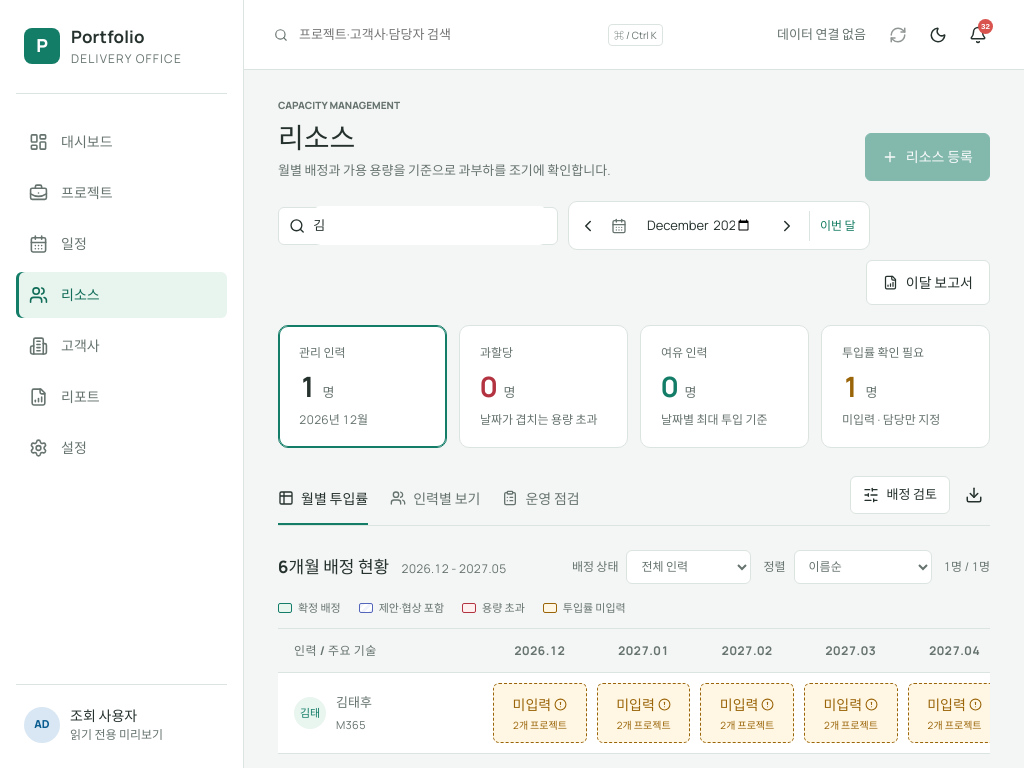
Test: all primary menu routes › carries the selected resource month across December into the next year and into reports
Expected: the field named "기준 월" holds "2026-12", [634, 205, 764, 246]
Click the button named "다음 월" at [787, 226], box [771, 210, 803, 242]
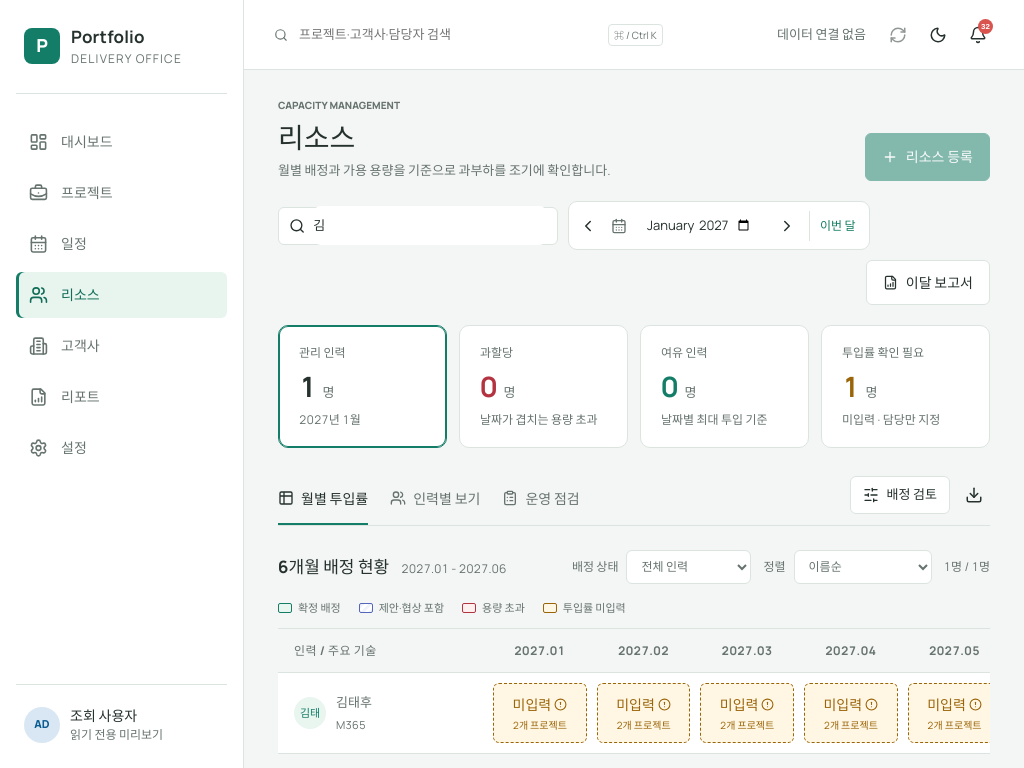
Expected: the field named "인력 검색" holds "김", [313, 206, 547, 245]
Expected: the field named "기준 월" holds "2027-01", [634, 205, 764, 246]
